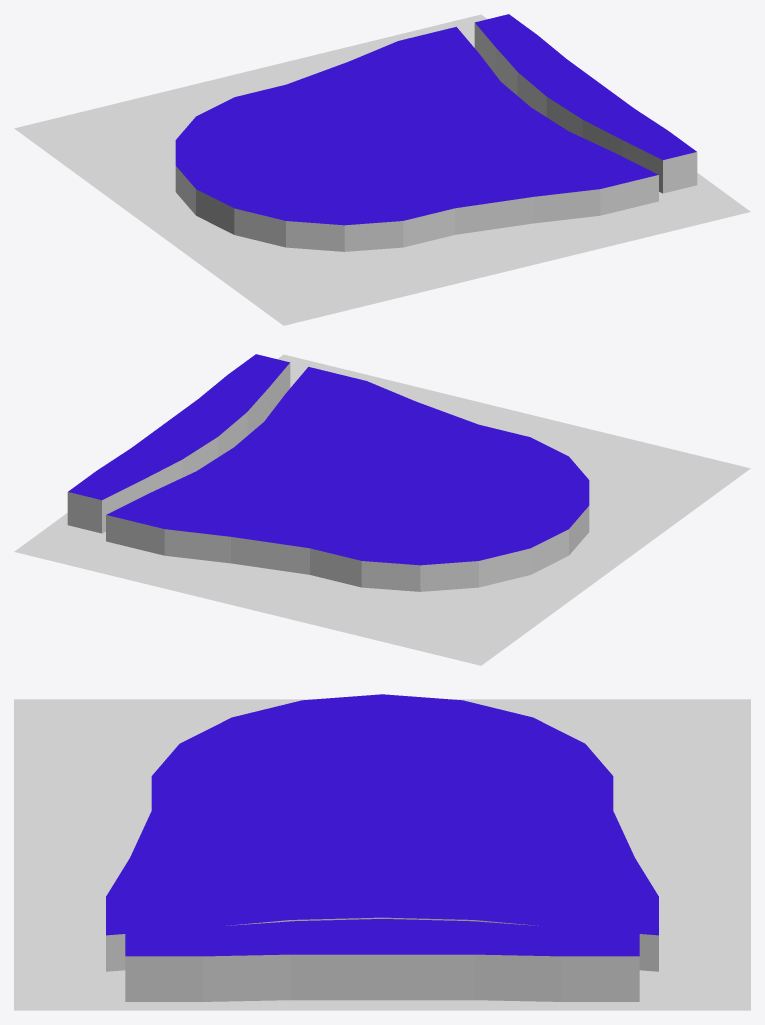
Rendered from XorGate.fbx.
3 views of the same model, one above another, from view 1: azimuth 30°, elevation 25°; view 2: azimuth 150°, elevation 25°; view 3: azimuth 270°, elevation 25° (orthographic). The views are drawn at different scales.
Visible parts, largest first — view 1: XorGate; view 2: XorGate; view 3: XorGate.
Boxes of the visible parts, x1,y1,x2,y2 form: XorGate: (14, 14, 750, 325); XorGate: (14, 354, 750, 665); XorGate: (14, 694, 750, 1010).
Bounding box in the file's own units: 200 × 13.66 × 200.
